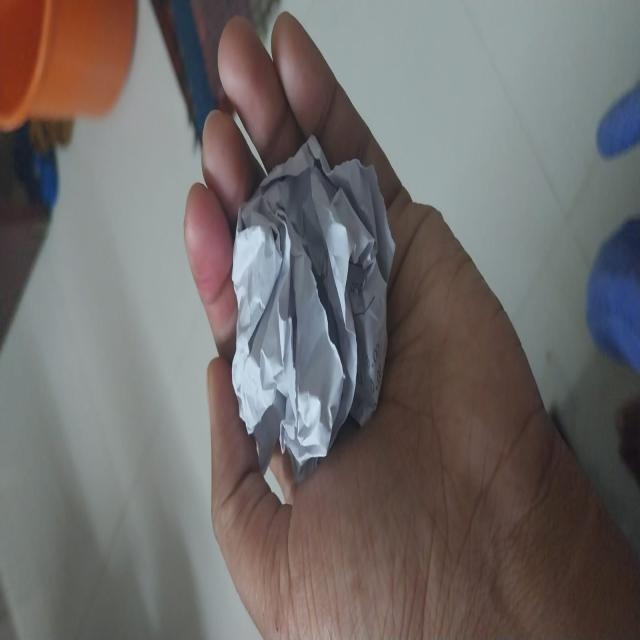Paper - Recyclable: (230, 132, 396, 500)
